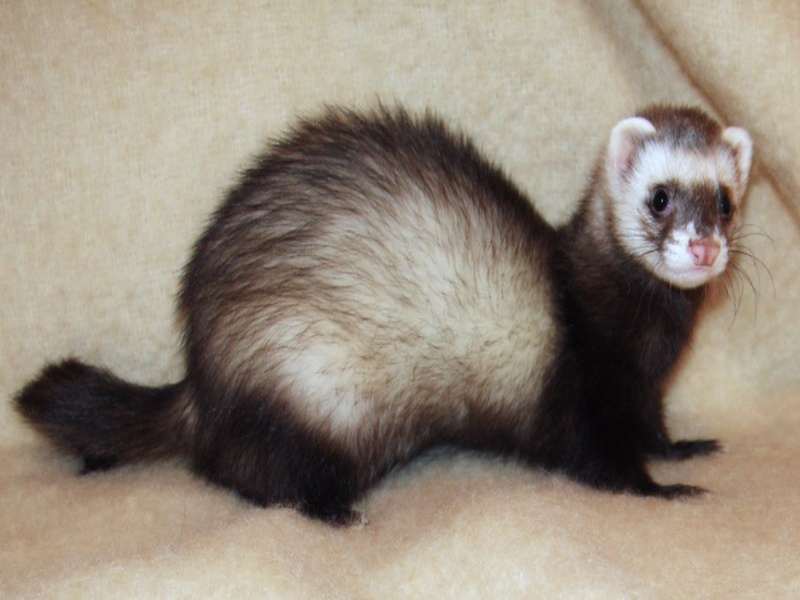minkish: (30, 102, 765, 530)
